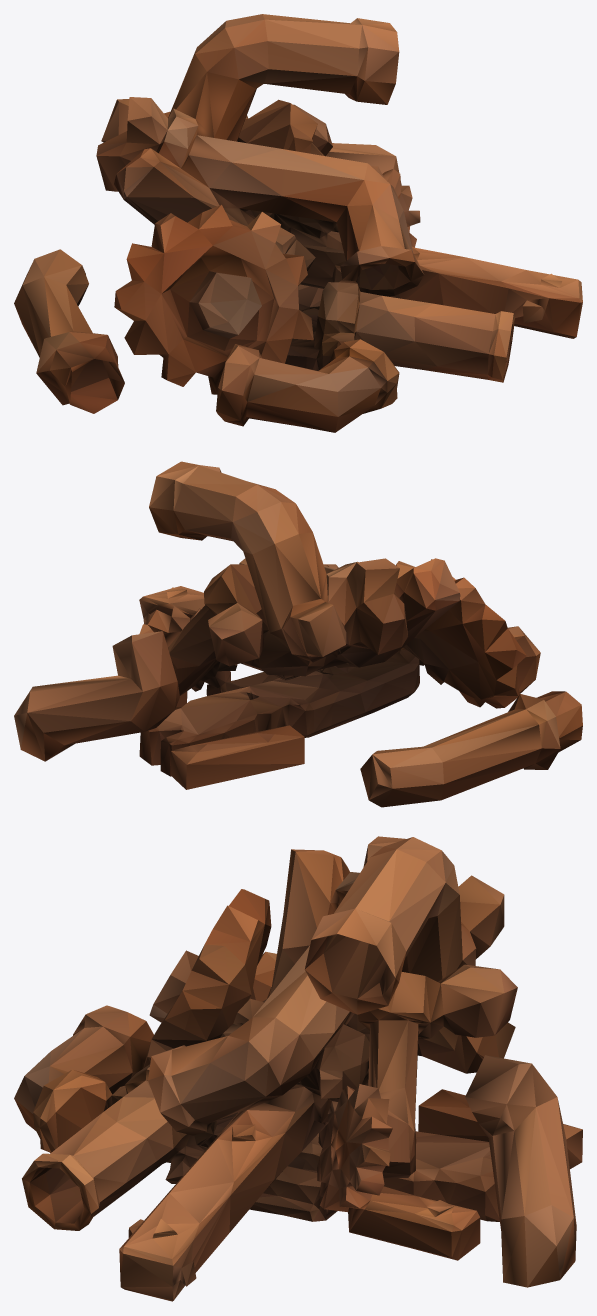
Rendered from building-magnetCrane-scrapSmall.glb.
3 views of the same model, one above another, from view 1: azimuth 30°, elevation 25°; view 2: azimuth 150°, elevation 25°; view 3: azimuth 270°, elevation 25° (orthographic). The views are drawn at different scales.
Parts seen in each view (by area): view 1: 0_magnetCrane-scrapSmall; view 2: 0_magnetCrane-scrapSmall; view 3: 0_magnetCrane-scrapSmall.
Part boxes in pixels (box(x1,y1,x2,y2)): 0_magnetCrane-scrapSmall: box(14, 14, 582, 432); 0_magnetCrane-scrapSmall: box(14, 461, 582, 807); 0_magnetCrane-scrapSmall: box(14, 836, 582, 1301).
Size of the model in its own units: 1 by 0.5453 by 0.8429.
